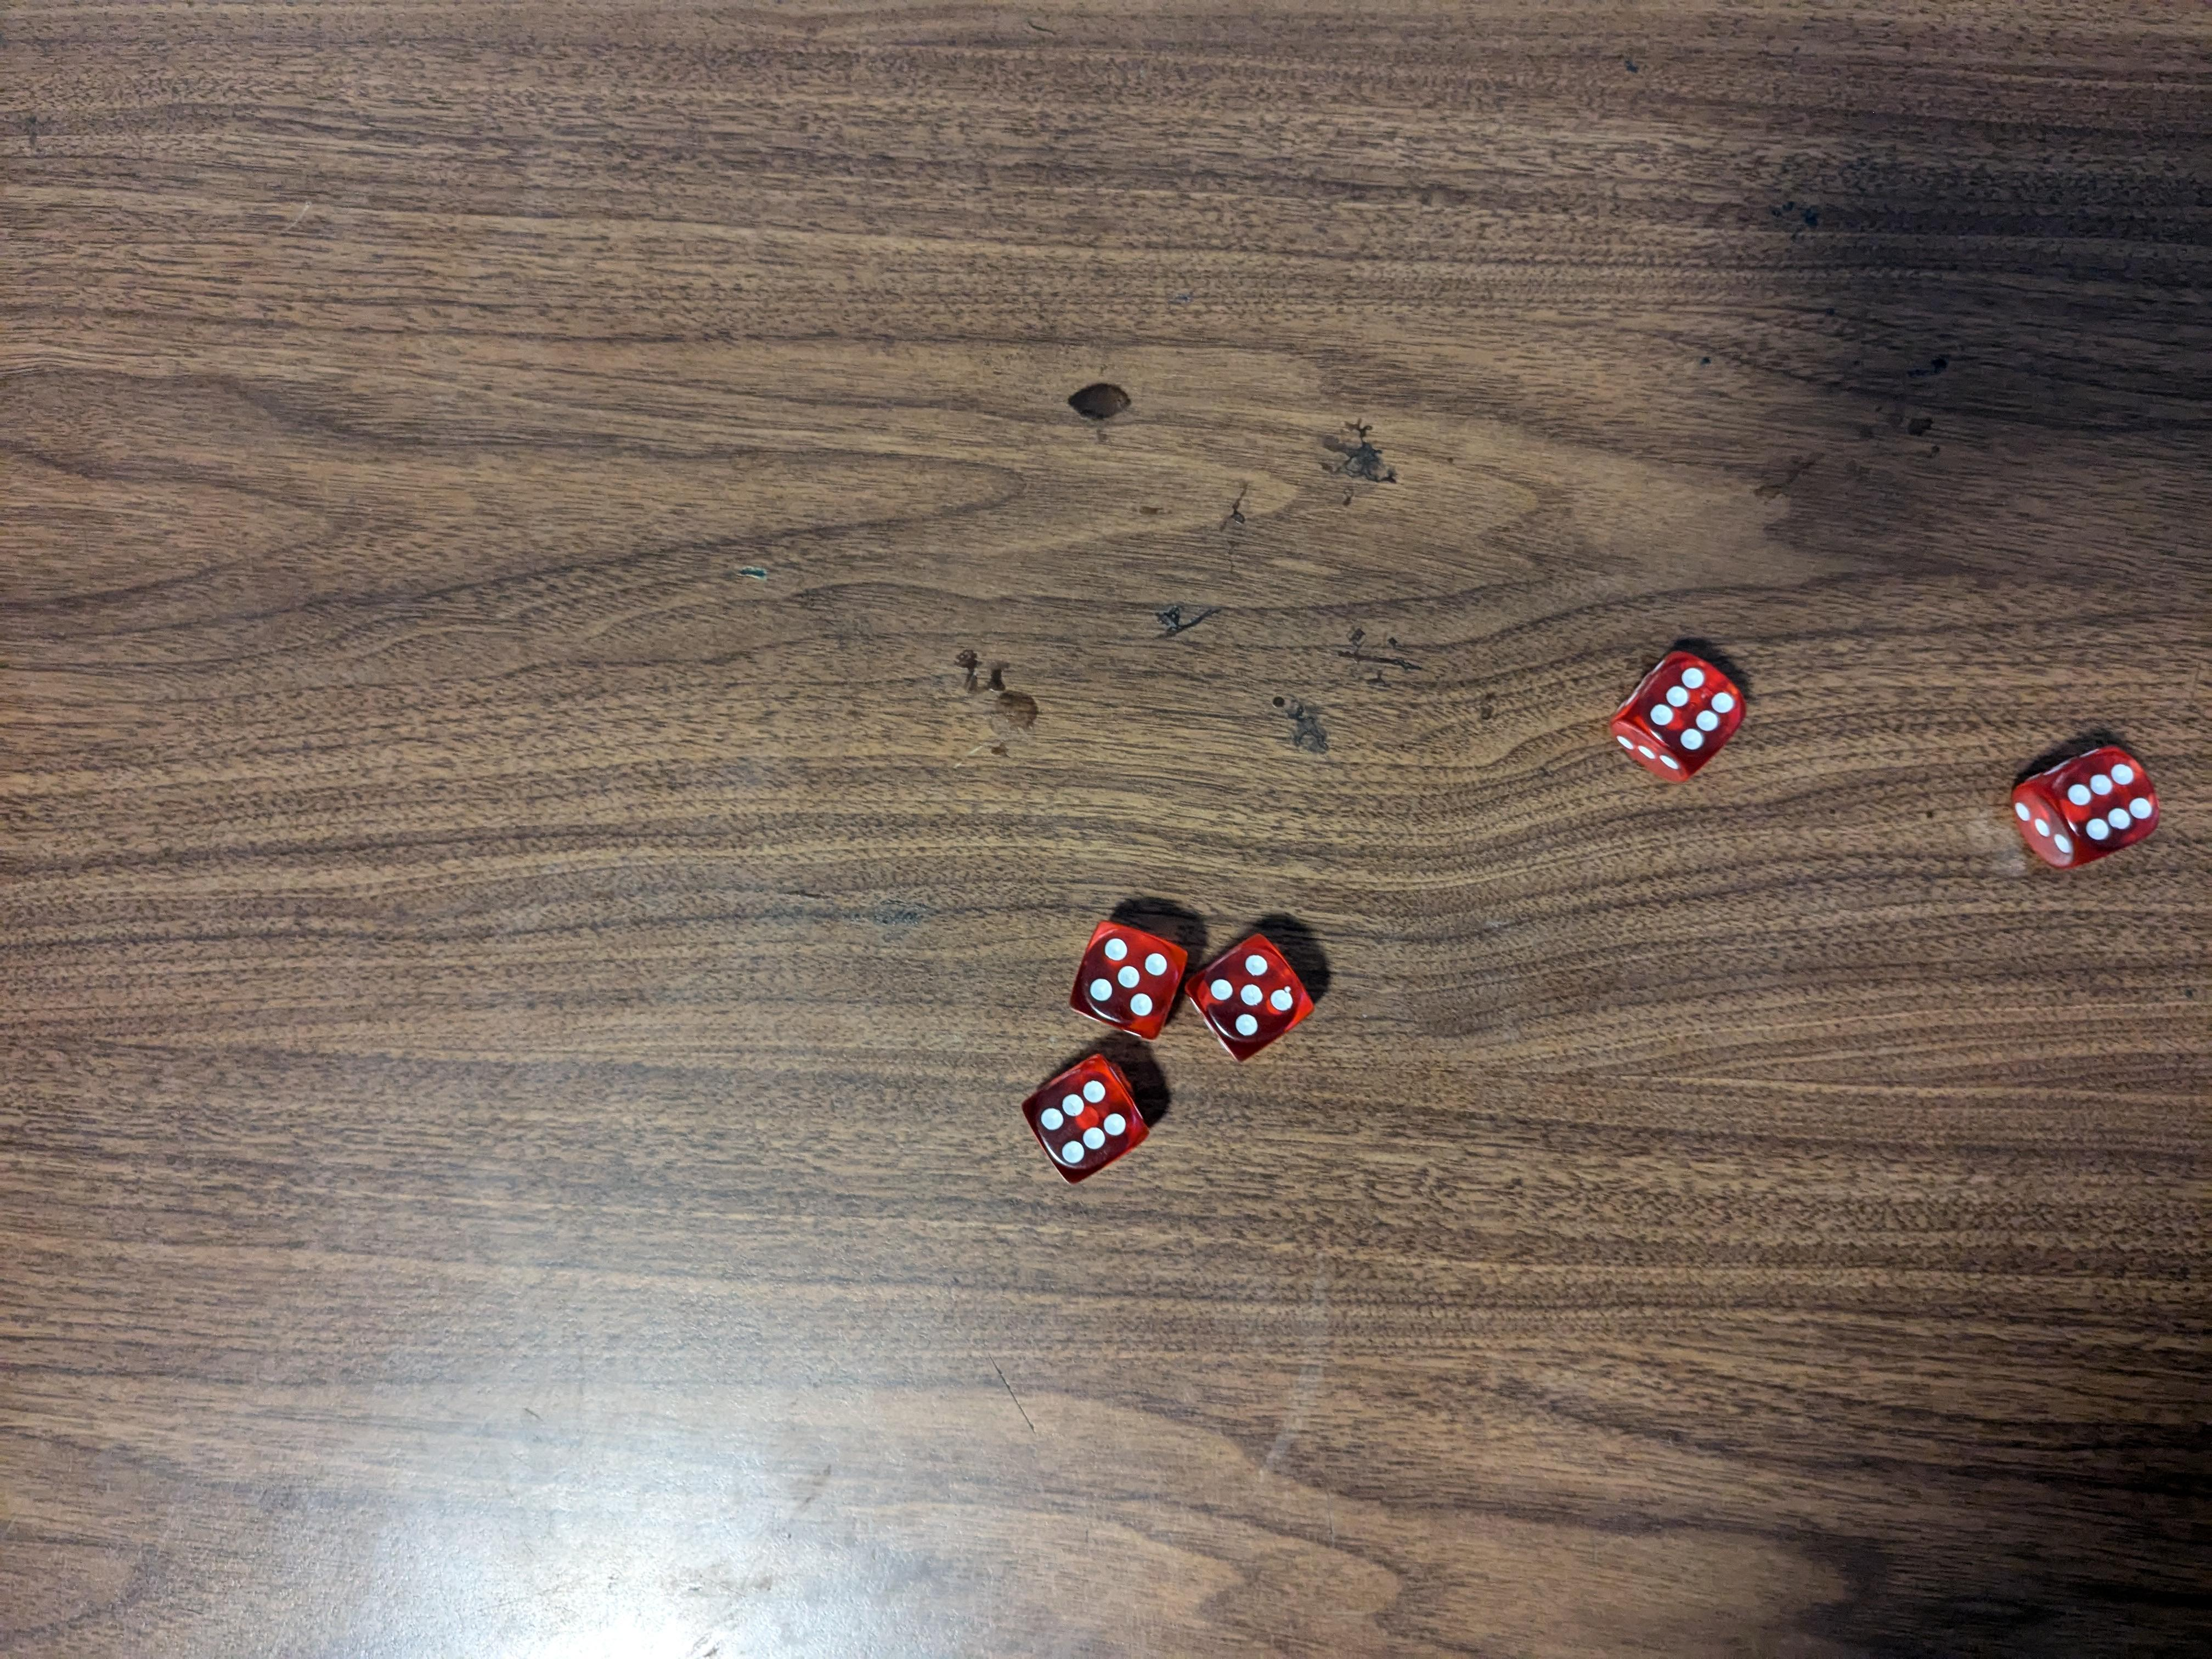five: (1193, 932, 1324, 1068), (1071, 911, 1188, 1033)
six: (2013, 741, 2163, 871), (1611, 645, 1750, 779), (1010, 1053, 1150, 1173)
